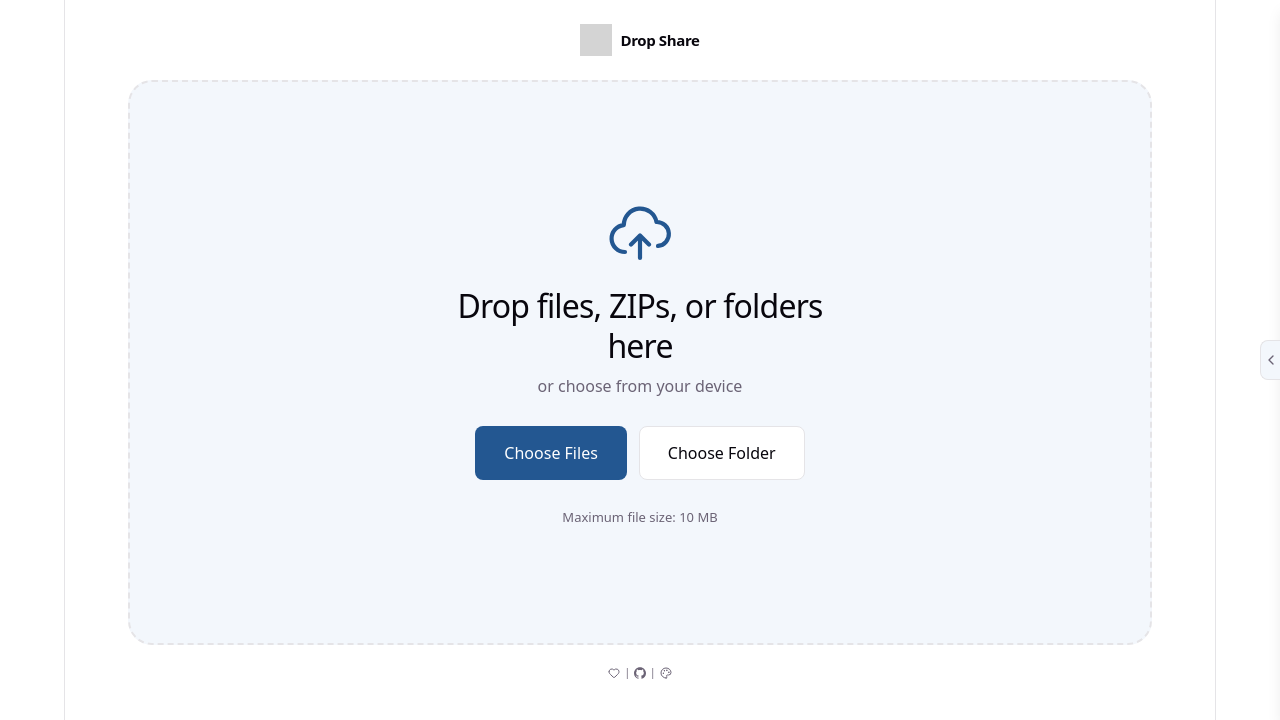
Test case: recent artifacts › removes a single artifact from the recent list
Click the button named "recent artifacts".
click(1270, 360)  # box [1260,340,1279,380]
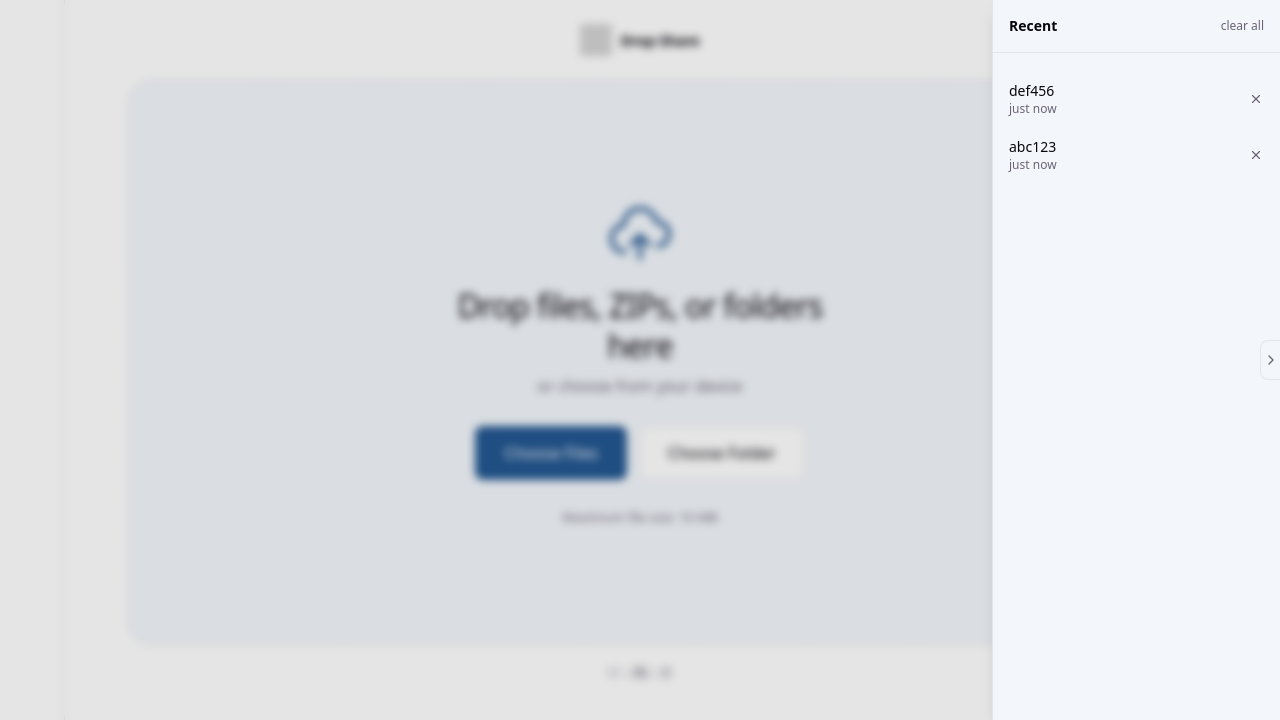
Click the button named "remove abc123 from recent".
click(1256, 155)  # box [1244,143,1268,167]
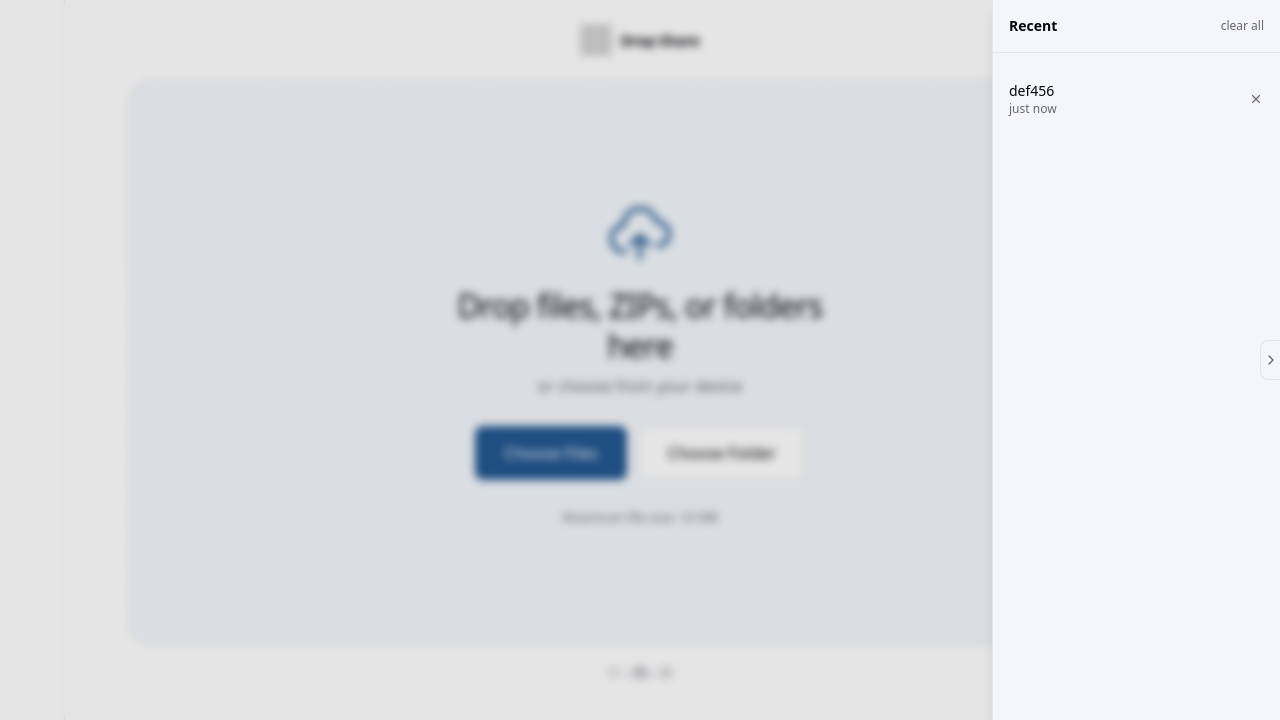
Expected: the link "def456 just now" is shown, [1009,81,1057,117]
Now the link "abc123" is gone
